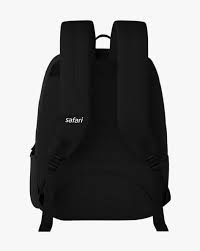backpack: (29, 19, 171, 232)
